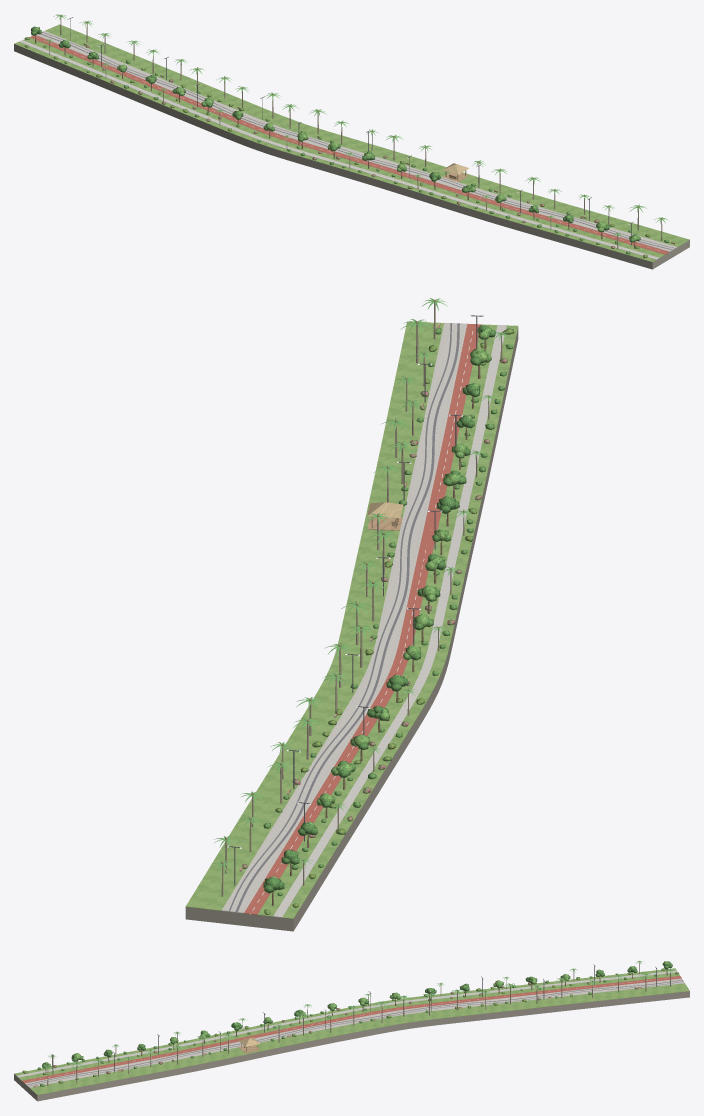
The model's file is parque_01.glb.
3 views of the same model, one above another, from view 1: azimuth 30°, elevation 25°; view 2: azimuth 150°, elevation 25°; view 3: azimuth 270°, elevation 25° (orthographic). The views are drawn at different scales.
Parts seen in each view (by area): view 1: parque_01; view 2: parque_01; view 3: parque_01.
Part boxes in pixels (bbox=[...]): parque_01: bbox=[14, 17, 689, 269]; parque_01: bbox=[185, 315, 518, 931]; parque_01: bbox=[14, 964, 689, 1101].
Size of the model in its own units: 130 by 13.8 by 290.
22 materials, 14 textured.
